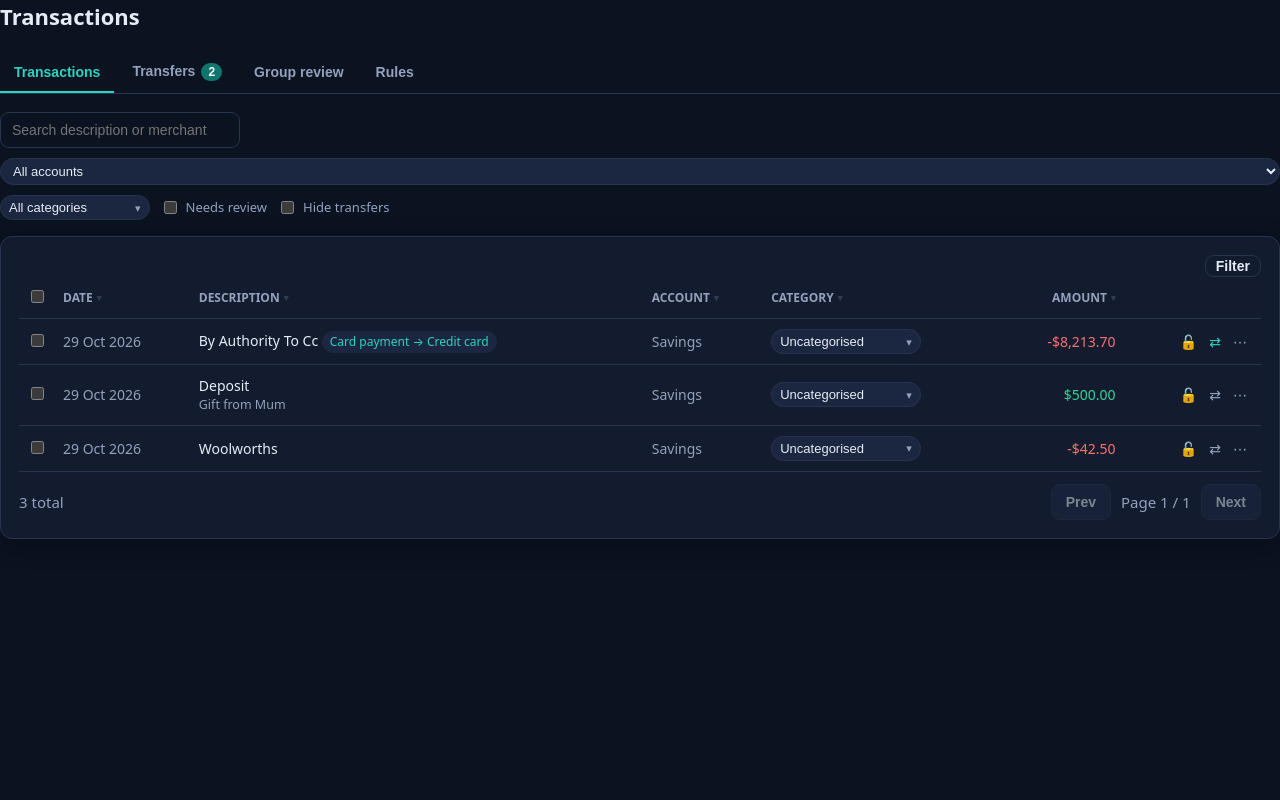
Test: Transactions: transfers › opens the link dialog from the ⇄ button
Check: the row that starts with "29 Oct 2026" is shown, box [19,318,1261,364]
Click the button named "Transfer link": coordinates (1215, 342) [1203,332,1227,352]
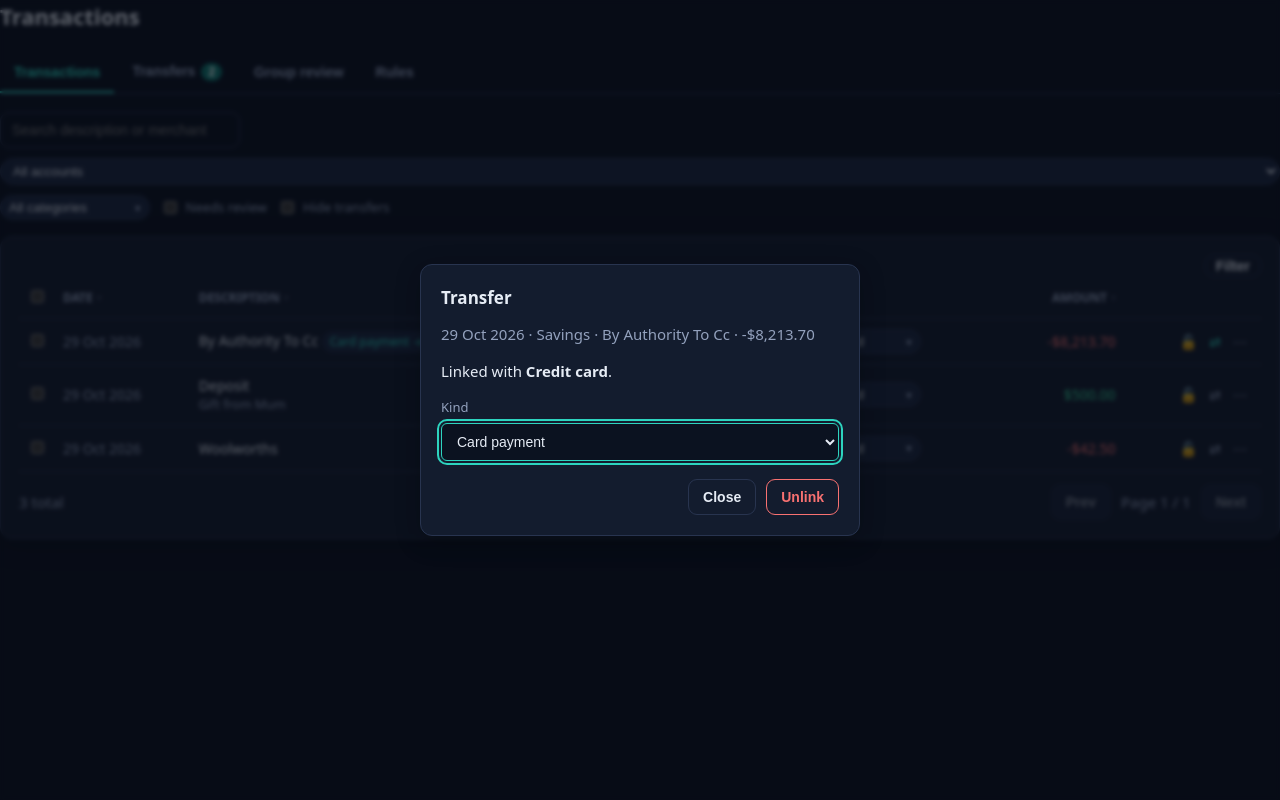
Check: the text "Credit card" is shown, box [526,361,608,381]
